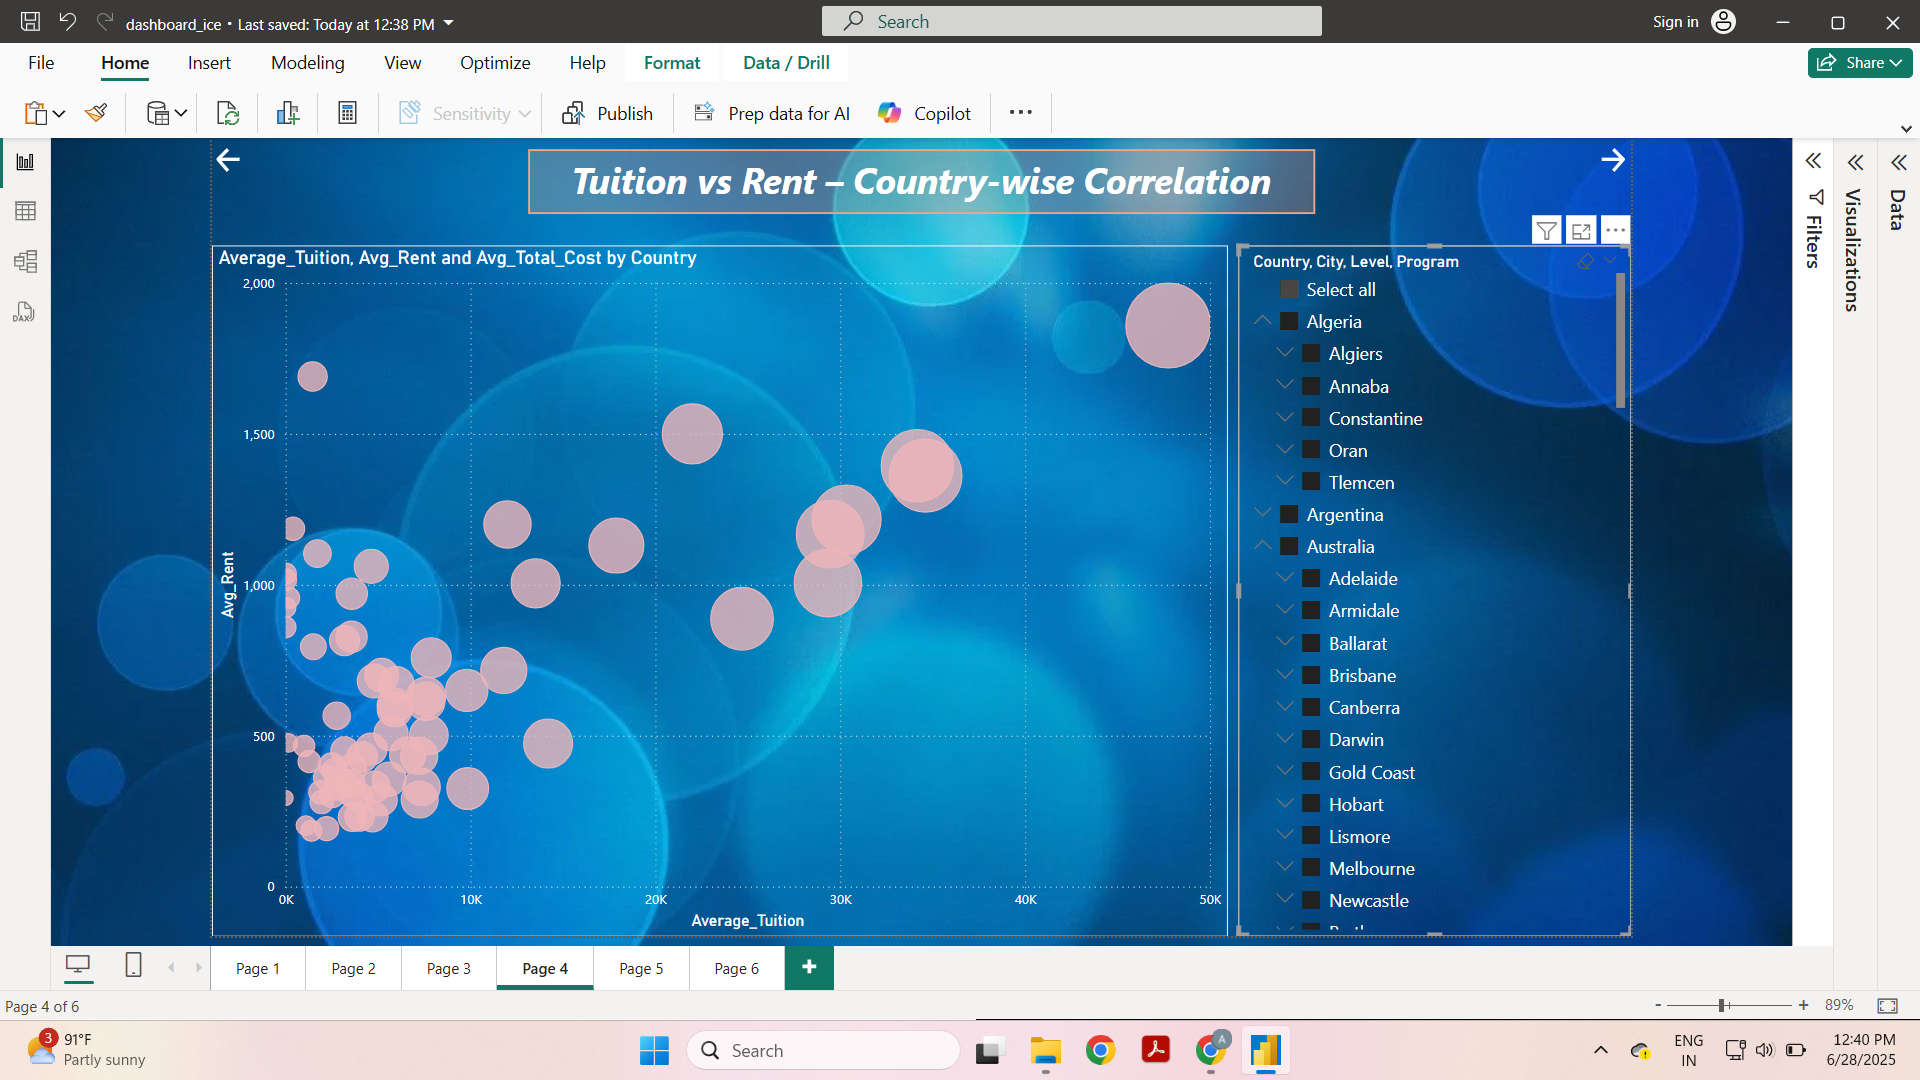

Layout of this report page (visuals, bound fields, positions):
{"tool":"powerbi","page":{"name":"Page 4","canvas":[1280,720],"ordinal":3},"visuals":[{"type":"scatterChart","fields":{"X":["international ed costs.Average_Tuition"],"Y":["international ed costs.Avg_Rent"],"Size":["international ed costs.Avg_Total_Cost"],"Category":["international ed costs.Country"]},"box":[0,96.5,916.3,623.3],"z":0},{"type":"slicer","fields":{"Values":["international ed costs.Country","international ed costs.City","international ed costs.Level","international ed costs.Program"]},"box":[925.6,96.5,354.7,623.3],"z":1000},{"type":"actionButton","box":[1247.7,0,30.2,39.5],"z":2000},{"type":"actionButton","box":[0,0,30.2,39.5],"z":3000},{"type":"textbox","box":[284.9,10.5,709.3,58.1],"z":4000}]}

Visuals, with their boxes on the page's 1280x720 design canvas (x1, y1, x2, y2). These are canvas units, not pixel positions in the 1920x1080 screenshot, which may show the page scaled, cropped or inside an application window:
scatterChart - international ed costs.Average_Tuition x international ed costs.Avg_Rent: (left=0, top=96, right=916, bottom=720)
slicer - international ed costs.Country x international ed costs.City: (left=926, top=96, right=1280, bottom=720)
actionButton: (left=1248, top=0, right=1278, bottom=40)
actionButton: (left=0, top=0, right=30, bottom=40)
textbox: (left=285, top=10, right=994, bottom=69)
